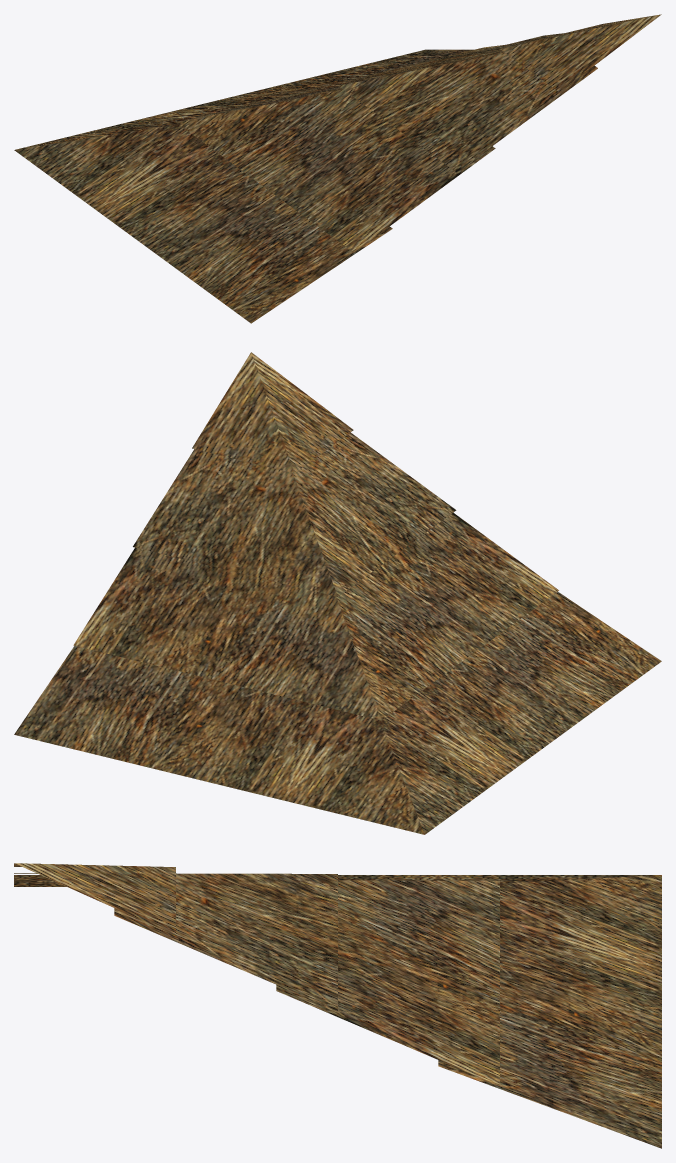
The model's file is construction_wood_roof_corner_mesh_lod2.fbx.
3 views of the same model, one above another, from view 1: azimuth 30°, elevation 25°; view 2: azimuth 150°, elevation 25°; view 3: azimuth 270°, elevation 25° (orthographic). The views are drawn at different scales.
Parts seen in each view (by area): view 1: construction_wood_roof_corner_mesh; view 2: construction_wood_roof_corner_mesh; view 3: construction_wood_roof_corner_mesh.
Part boxes in pixels (<box>): construction_wood_roof_corner_mesh: <box>14,14,661,323</box>; construction_wood_roof_corner_mesh: <box>14,352,661,834</box>; construction_wood_roof_corner_mesh: <box>14,863,661,1148</box>.
Size of the model in its own units: 338 by 164 by 338.
